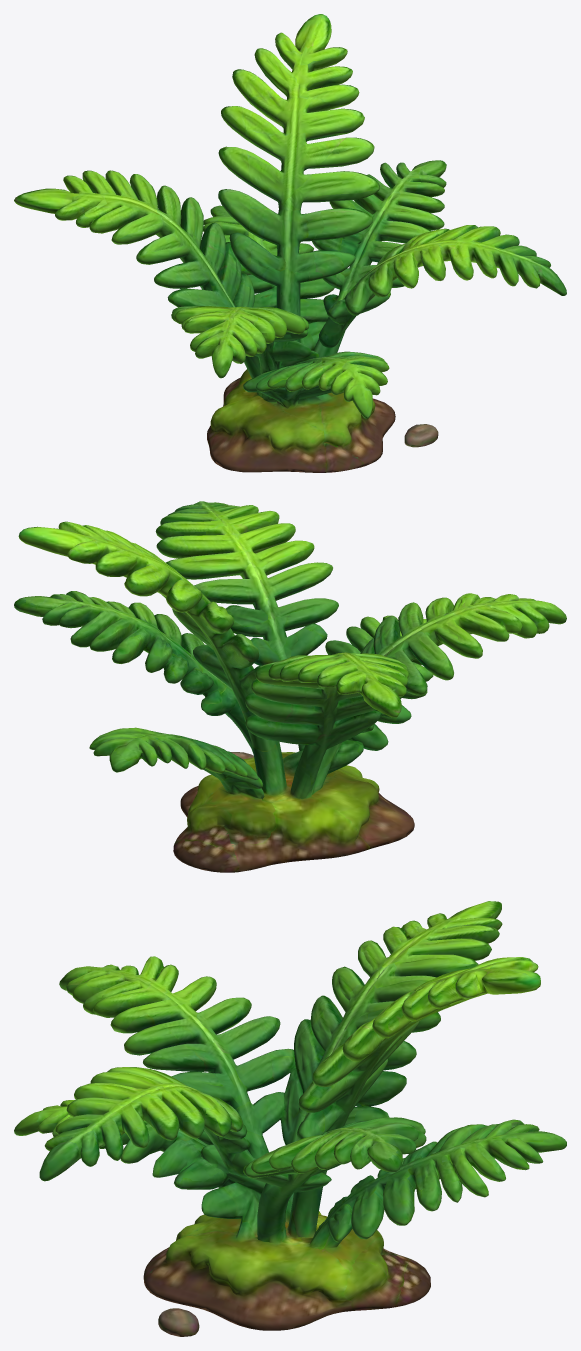
3 renders of one model, top to bottom at view 1: azimuth 30°, elevation 25°; view 2: azimuth 150°, elevation 25°; view 3: azimuth 270°, elevation 25°, orthographic. The views are drawn at different scales.
Bounding box in the file's own units: 1.89 × 1.43 × 1.9.
Materials: 1 (1 with a texture image).
